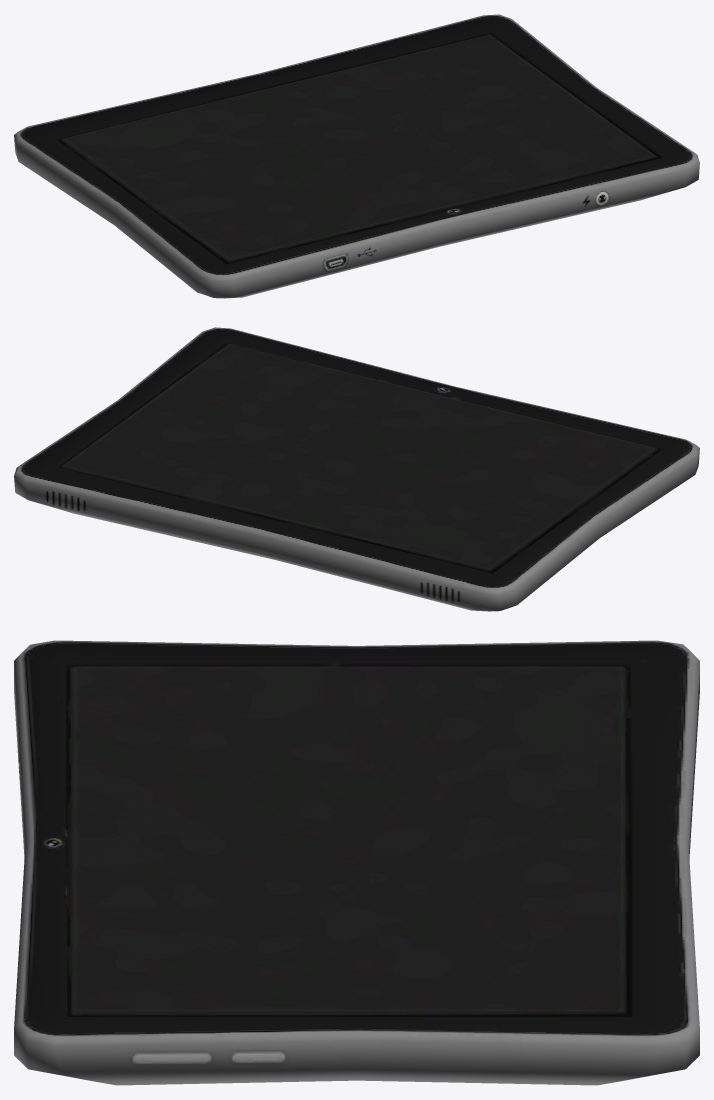
The model's file is tablet_reader.dae.
3 views of the same model, one above another, from view 1: azimuth 30°, elevation 25°; view 2: azimuth 150°, elevation 25°; view 3: azimuth 270°, elevation 25° (orthographic). The views are drawn at different scales.
Visible parts, largest first — view 1: tablet_reader; view 2: tablet_reader; view 3: tablet_reader.
Boxes of the visible parts, box(x1,y1,x2,y2) form: tablet_reader: box(14, 14, 699, 298); tablet_reader: box(14, 327, 699, 611); tablet_reader: box(14, 640, 699, 1085).
Size of the model in its own units: 28.72 by 2.3 by 20.68.
